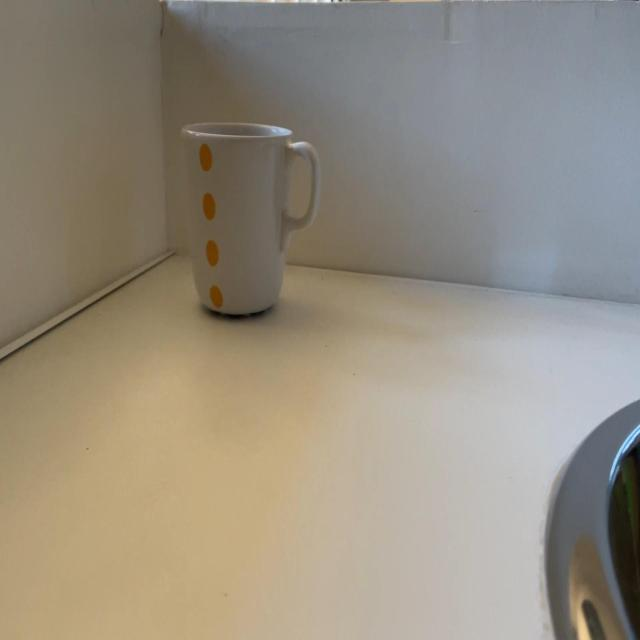cup: (187, 122, 320, 315)
